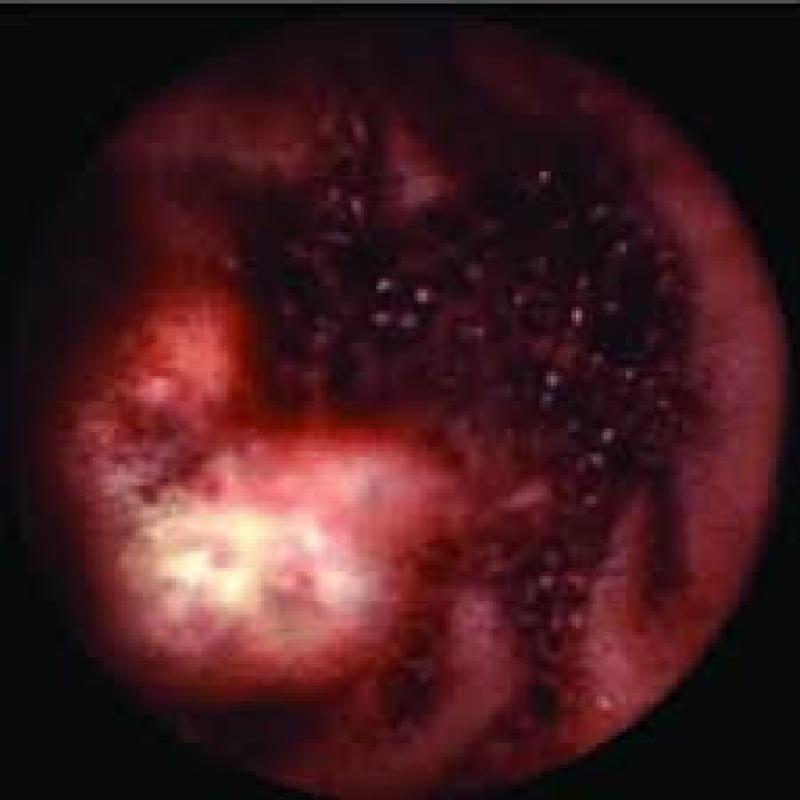bleeding: (54, 18, 775, 793)
